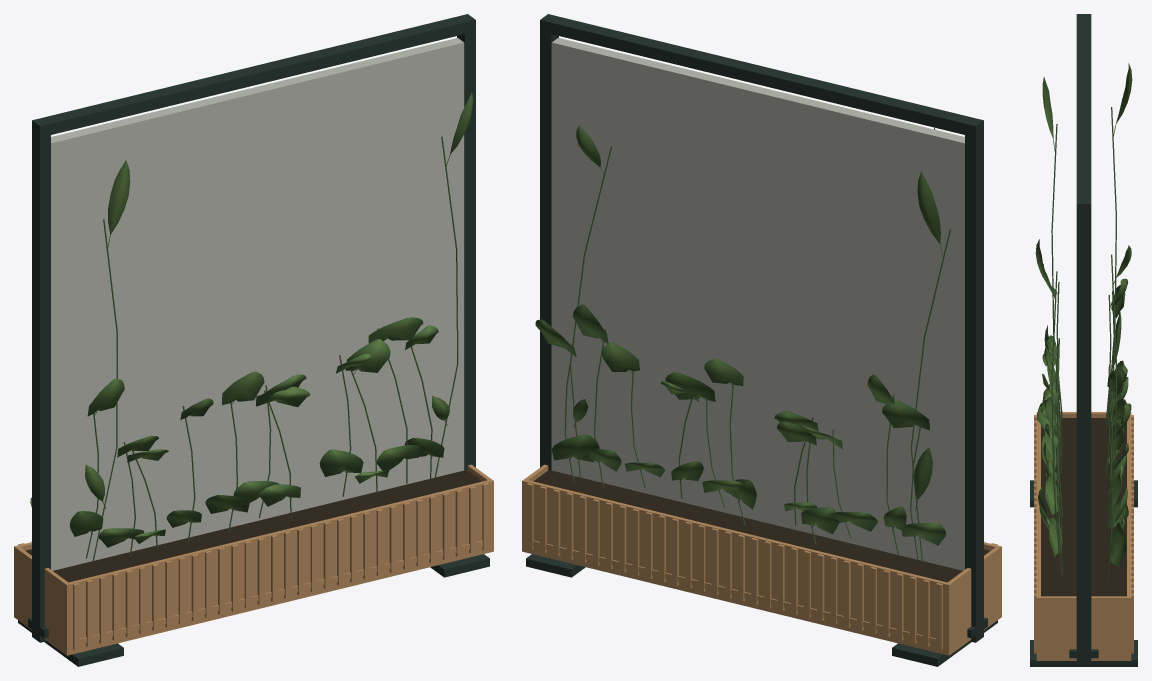
File: botanicalDivider-1.glb
3 views of the same model, side by side, from view 1: azimuth 30°, elevation 25°; view 2: azimuth 150°, elevation 25°; view 3: azimuth 270°, elevation 25° (orthographic). The views are drawn at different scales.
Visible parts, largest first — view 1: Botanical_felt_screen, Botanical_frame_finish, Botanical_powdercoat, Botanical_living_foliage, Botanical_recessed_soil, Botanical_connected_stems; view 2: Botanical_felt_screen, Botanical_frame_finish, Botanical_powdercoat, Botanical_living_foliage, Botanical_recessed_soil, Botanical_connected_stems; view 3: Botanical_powdercoat, Botanical_recessed_soil, Botanical_frame_finish, Botanical_living_foliage, Botanical_connected_stems.
Boxes of the visible parts, x1,y1,x2,y2 form: Botanical_felt_screen: (51,38,464,570); Botanical_frame_finish: (14,464,493,655); Botanical_powdercoat: (18,14,489,666); Botanical_living_foliage: (30,93,473,547); Botanical_recessed_soil: (25,470,482,582); Botanical_connected_stems: (86,136,458,561); Botanical_felt_screen: (551,38,964,570); Botanical_frame_finish: (522,464,1001,655); Botanical_powdercoat: (526,14,997,666); Botanical_living_foliage: (535,125,945,545); Botanical_recessed_soil: (533,470,990,582); Botanical_connected_stems: (564,146,951,561); Botanical_powdercoat: (1030,14,1137,666); Botanical_recessed_soil: (1041,418,1126,596); Botanical_frame_finish: (1034,412,1133,660); Botanical_living_foliage: (1035,63,1132,567); Botanical_connected_stems: (1051,107,1116,582).
Bounding box in the file's own units: 2 × 2.3 × 0.4798.
